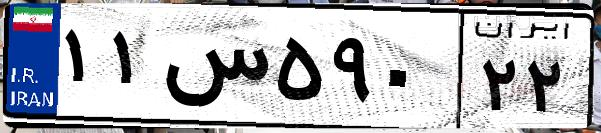0: (385, 28, 445, 110)
1: (57, 26, 110, 100), (110, 28, 158, 98)
2: (475, 38, 525, 113), (525, 38, 570, 115)
5: (270, 28, 330, 110)
9: (330, 28, 385, 110)
س: (158, 20, 270, 120)
